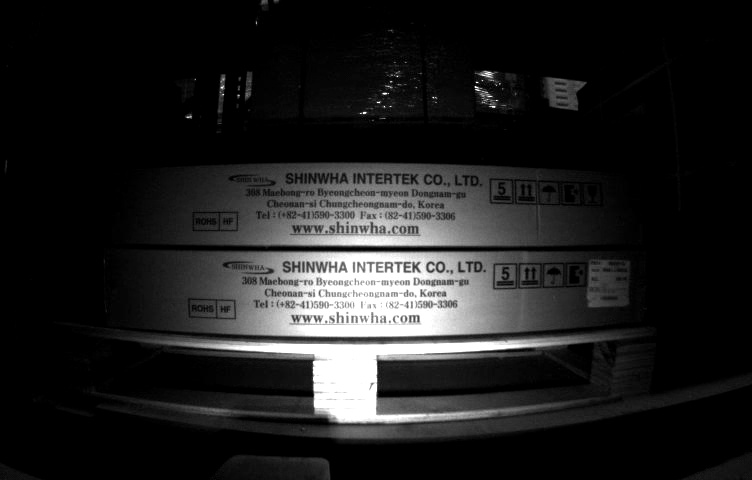True Barcode: (590, 260, 629, 305)
